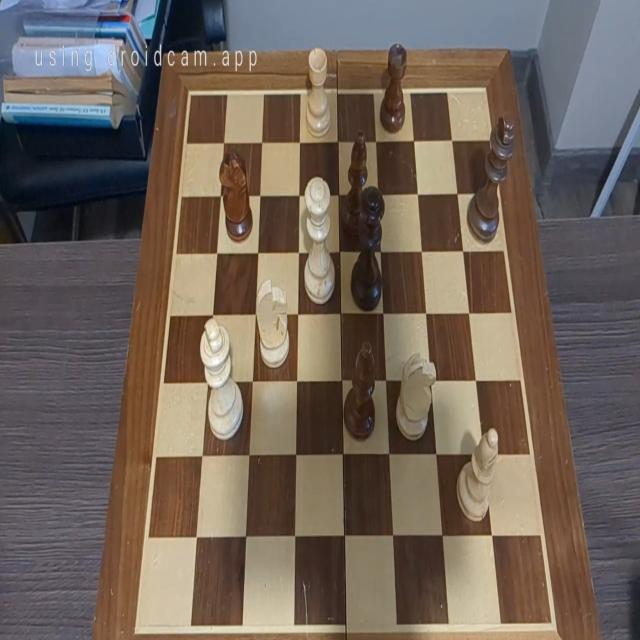black_bishop: (344, 340, 377, 441), (340, 133, 368, 239)
black_king: (466, 113, 514, 245)
black_knight: (218, 148, 253, 241)
black_queen: (351, 186, 385, 312)
black_rook: (379, 42, 406, 132)
white_bishop: (456, 429, 499, 522)
white_king: (199, 317, 244, 442)
white_knight: (396, 352, 436, 440), (256, 280, 290, 366)
white_queen: (303, 175, 335, 302)
white_rook: (306, 46, 330, 136)
